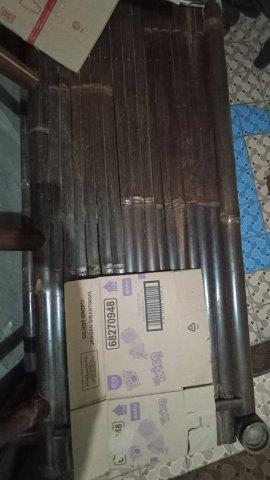kardus: (64, 271, 216, 479)
